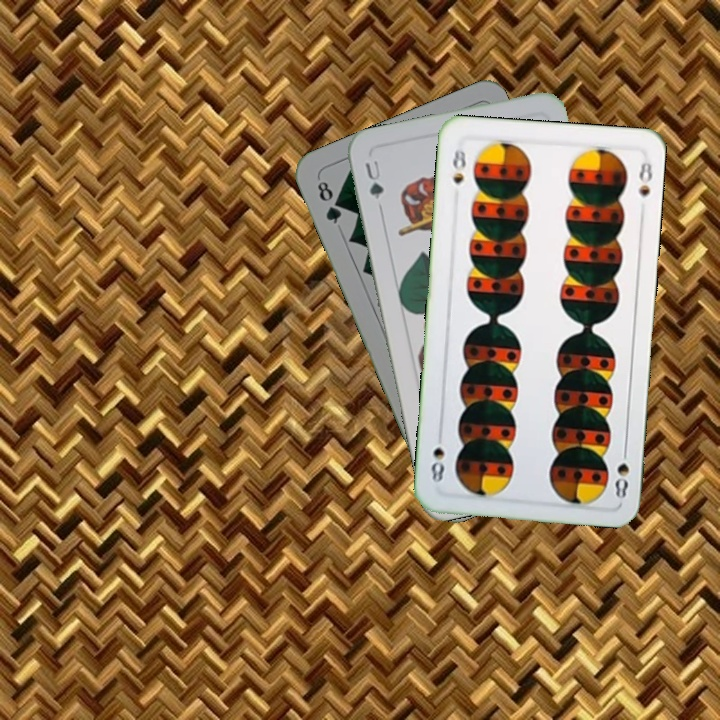G8: (313, 177, 344, 227)
GU: (361, 156, 386, 212)
S8: (611, 442, 631, 502), (448, 144, 469, 186)
